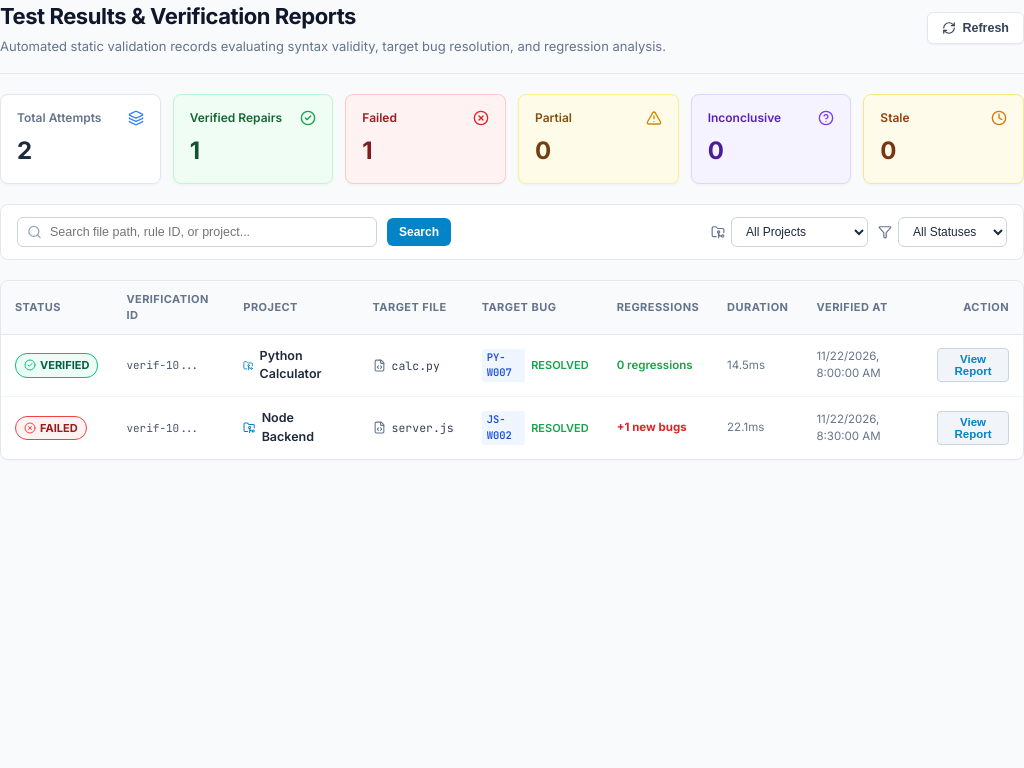
Test: Phase 8 UI: Test Results Sidebar Navigation & Dashboard › opens detailed verification report modal when clicking a row or "View Report"
# Click "View Report" button
What coordinates should you click on to do the following:
click the button with test id "view-report-btn-verif-101"
I would click on:
 (973, 365)
Its box is [937,348,1009,382].
(page scrolled)
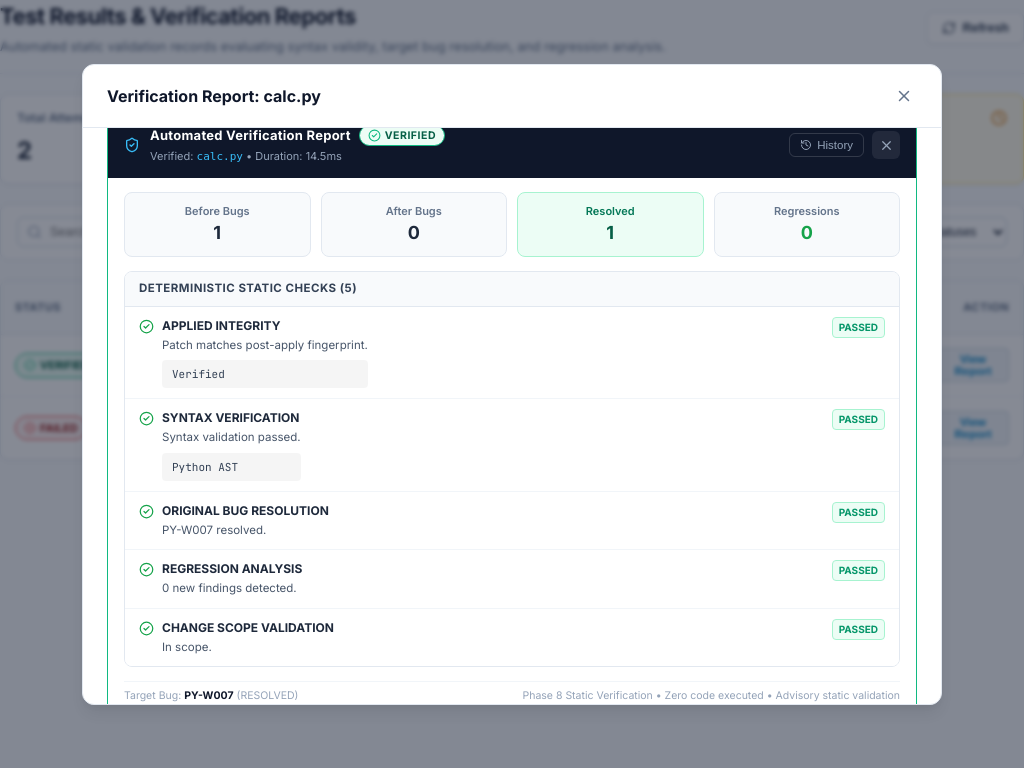
Check: the heading "Verification Report: calc.py" is shown, box [107,84,321,108]
Check: the element with test id "repair-verification-card" is shown, box [107,128,917,704]
